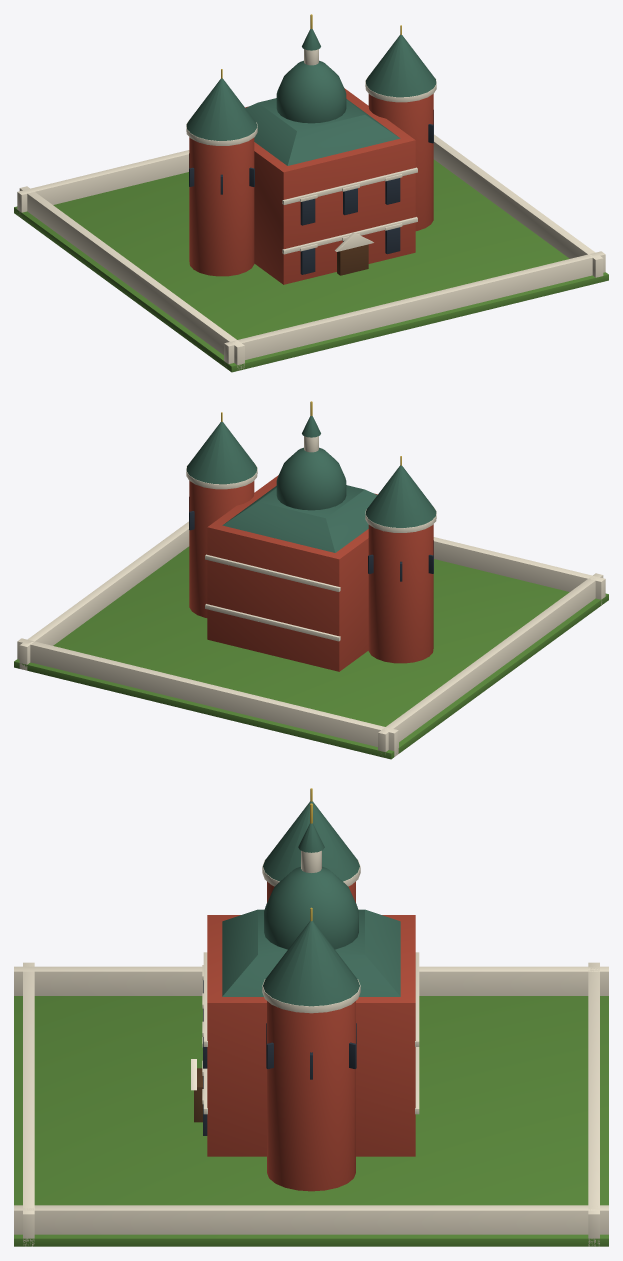
File: marco_uraniborg.glb
3 renders of one model, top to bottom at view 1: azimuth 30°, elevation 25°; view 2: azimuth 150°, elevation 25°; view 3: azimuth 270°, elevation 25°, orthographic. The views are drawn at different scales.
Parts seen in each view (by area): view 1: marco_uraniborg; view 2: marco_uraniborg; view 3: marco_uraniborg.
Part boxes in pixels (<box>): marco_uraniborg: <box>14,14,608,372</box>; marco_uraniborg: <box>14,401,608,759</box>; marco_uraniborg: <box>14,788,608,1246</box>.
Bounding box in the file's own units: 40 × 23.5 × 40.
